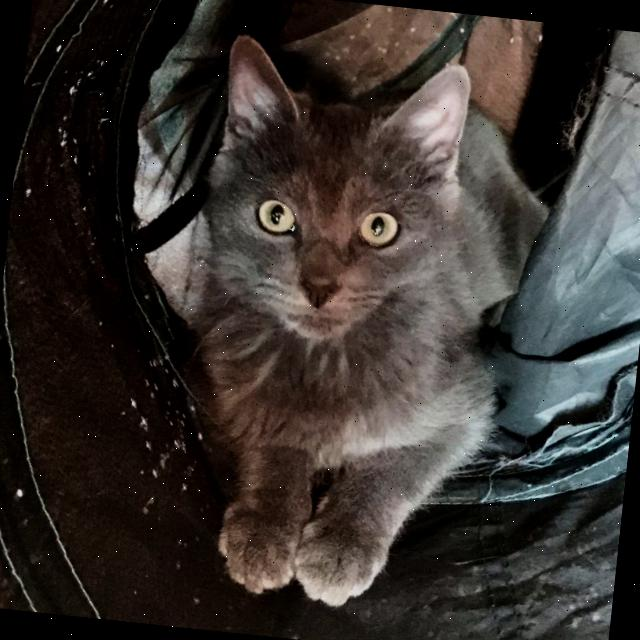russian_blue_cat: (180, 23, 489, 369)
